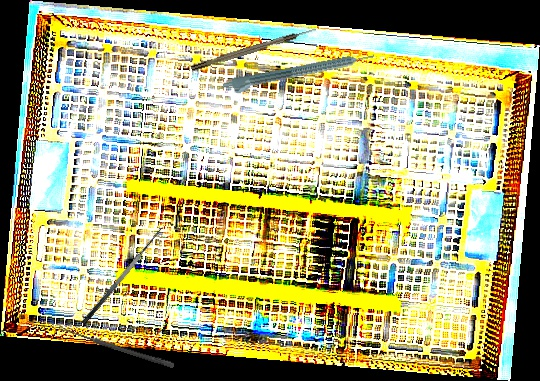Handpiece: (221, 50, 377, 98)
Hook Surgical: (190, 26, 317, 72)
Spatula Surgical: (73, 222, 166, 326)
Surgical Spoon: (58, 325, 175, 369)
